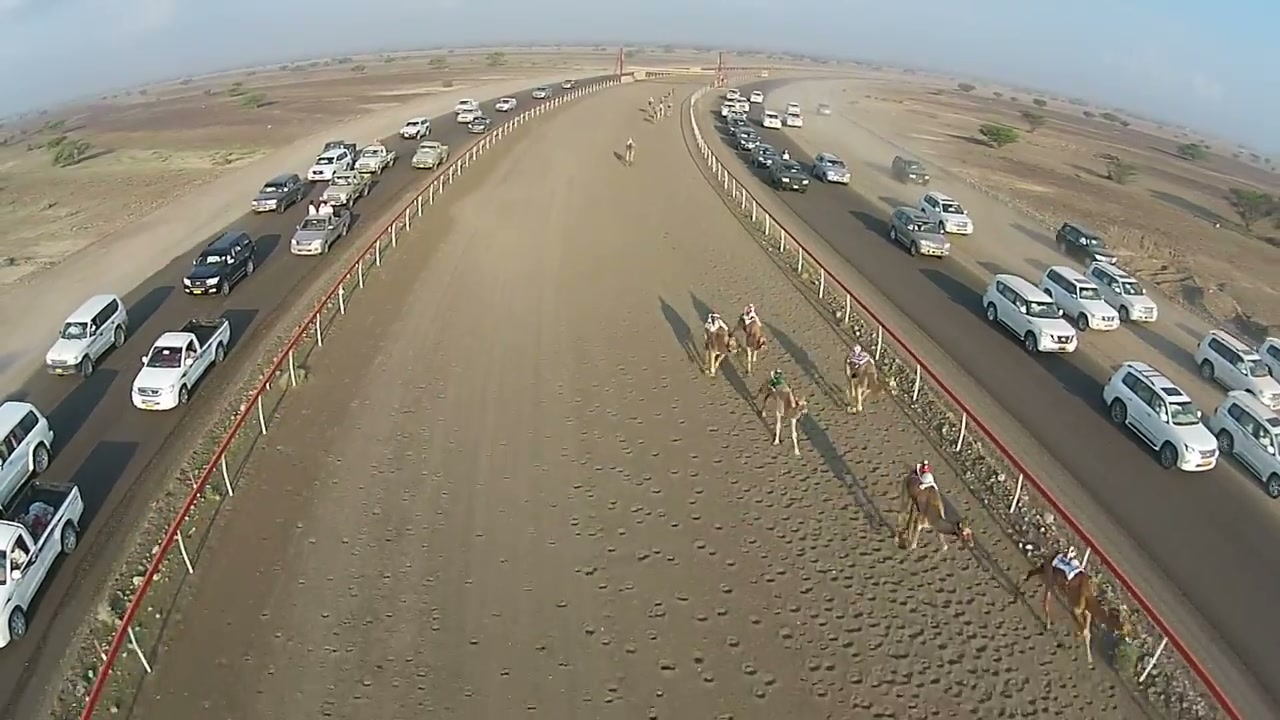animal_footprint: (604, 367, 1133, 719)
